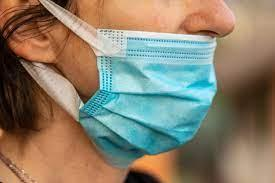mask_weared_incorrect: (57, 0, 239, 173)
